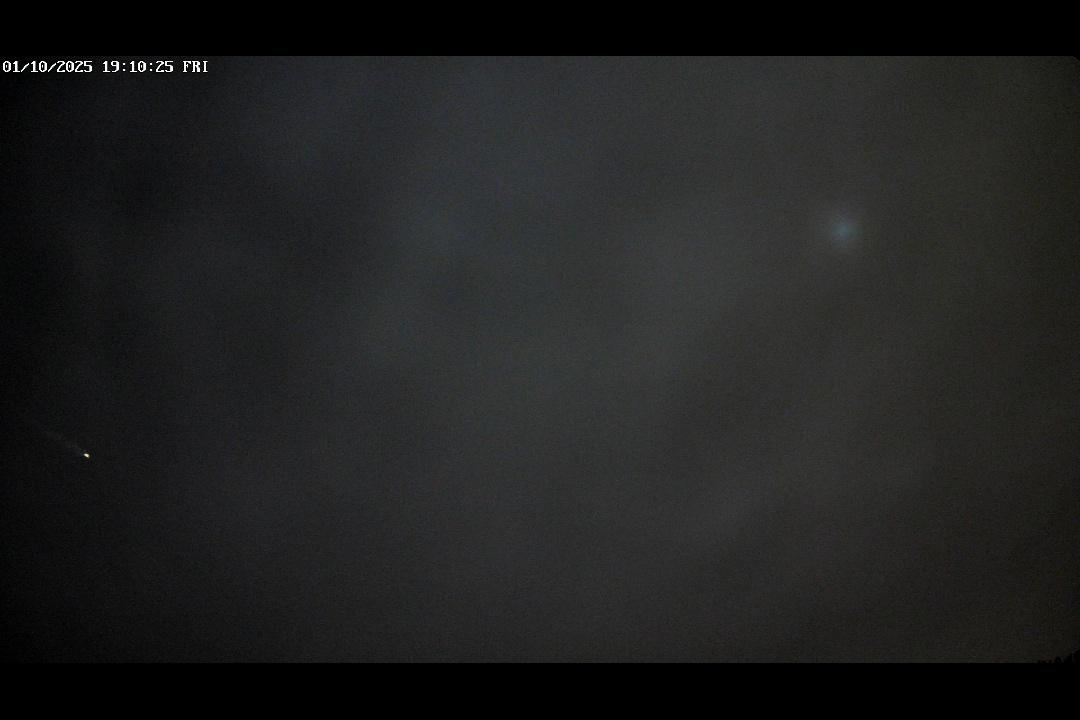Plane: (46, 434, 98, 462)
